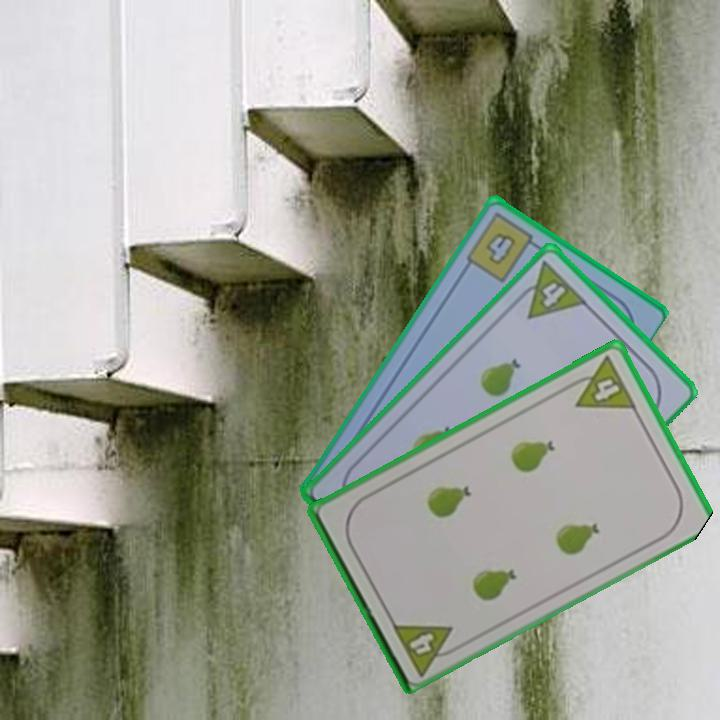4b: (462, 209, 544, 285)
4p: (509, 257, 590, 322), (562, 352, 639, 412), (388, 618, 464, 678)
